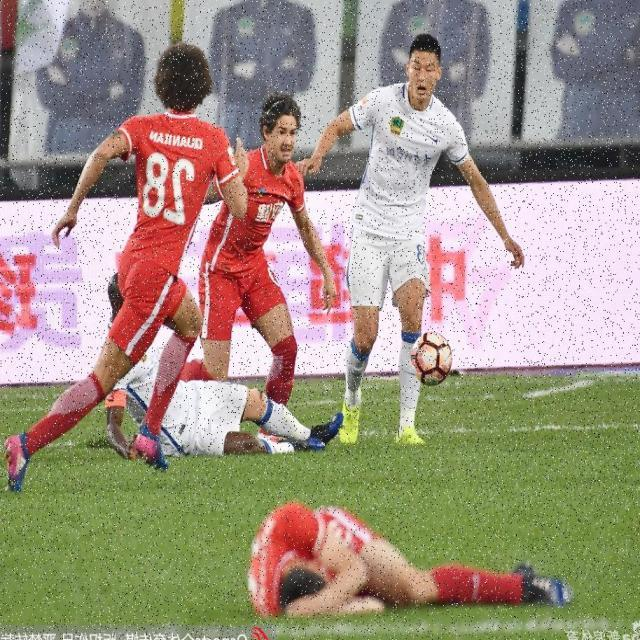fall: (243, 498, 578, 620), (100, 294, 332, 452)
